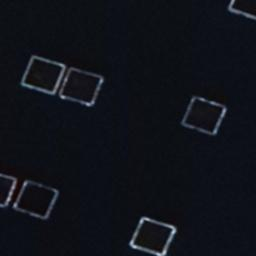square_solid: (177, 91, 231, 142), (11, 173, 62, 224), (17, 51, 71, 99), (125, 211, 182, 256), (54, 65, 108, 111), (1, 167, 23, 212), (224, 1, 256, 22)
